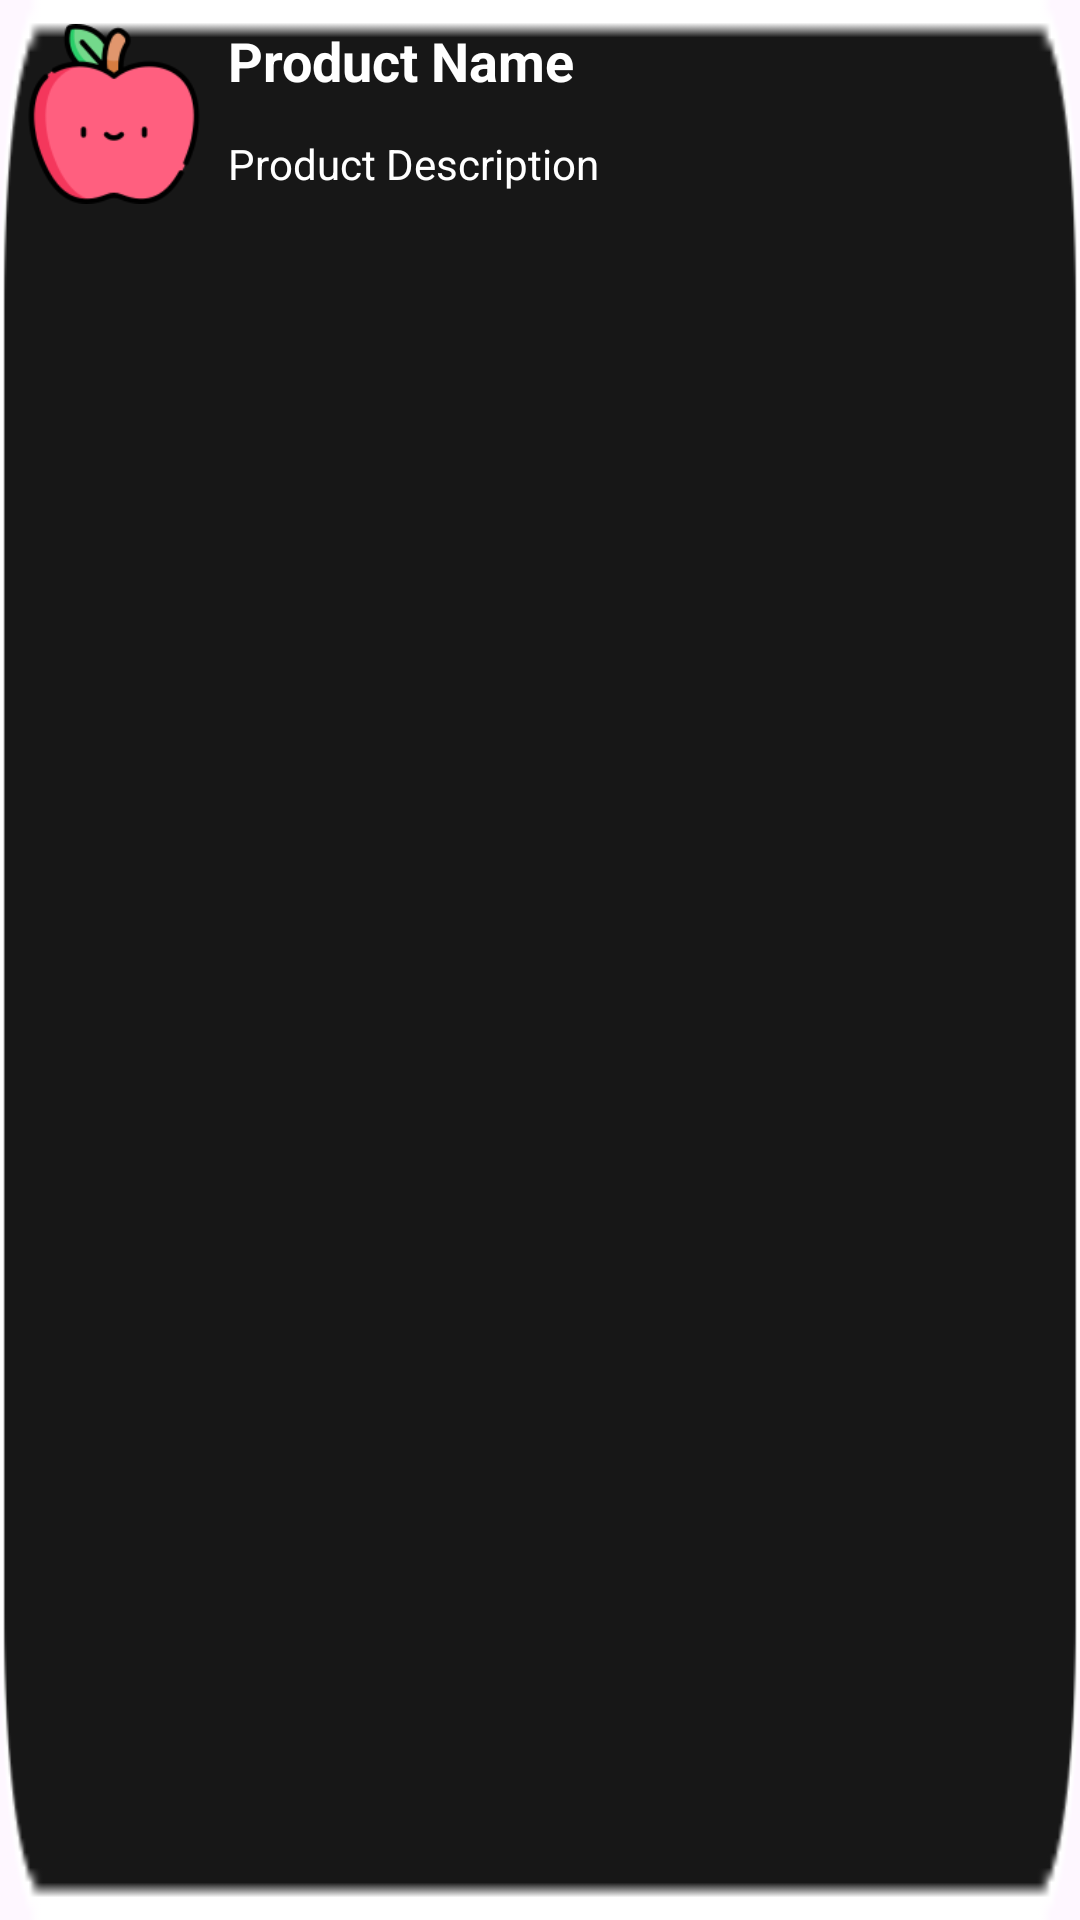

Icon click points for this 1080 x 1920 phone screenshot, format (x,y):
apple: (114,114)
